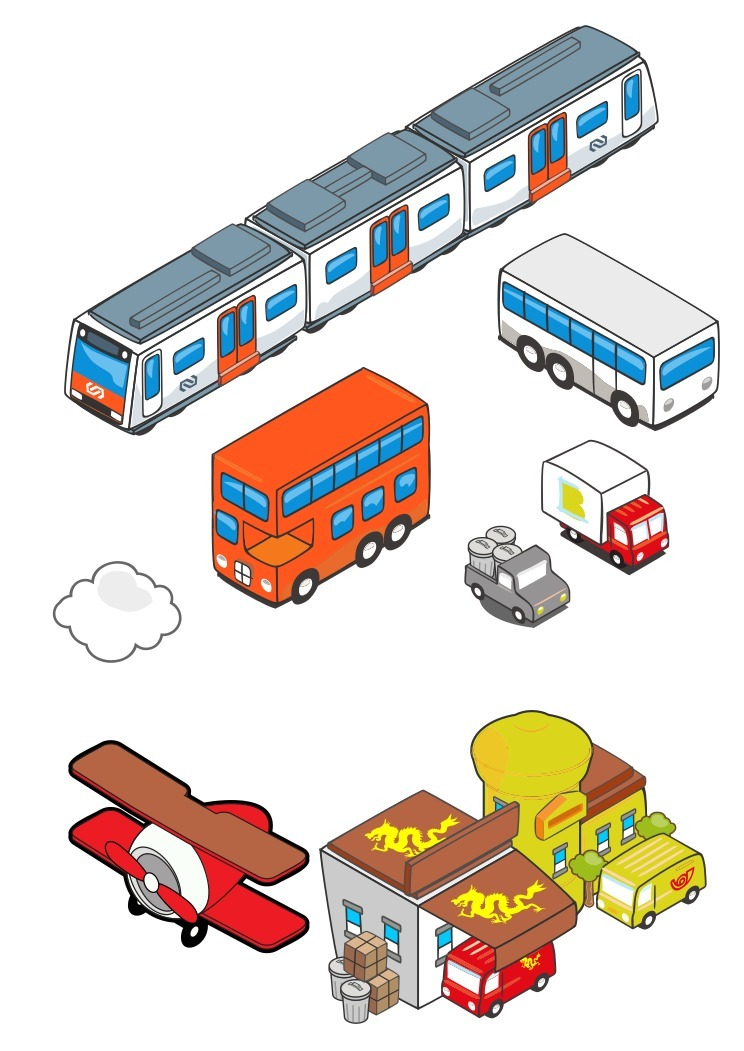aeroplane: (64, 731, 315, 960)
bus: (193, 365, 429, 604), (490, 228, 725, 428)
car: (528, 431, 672, 575), (592, 831, 707, 931), (436, 929, 562, 1017), (458, 529, 572, 626)
train: (53, 22, 657, 431)
